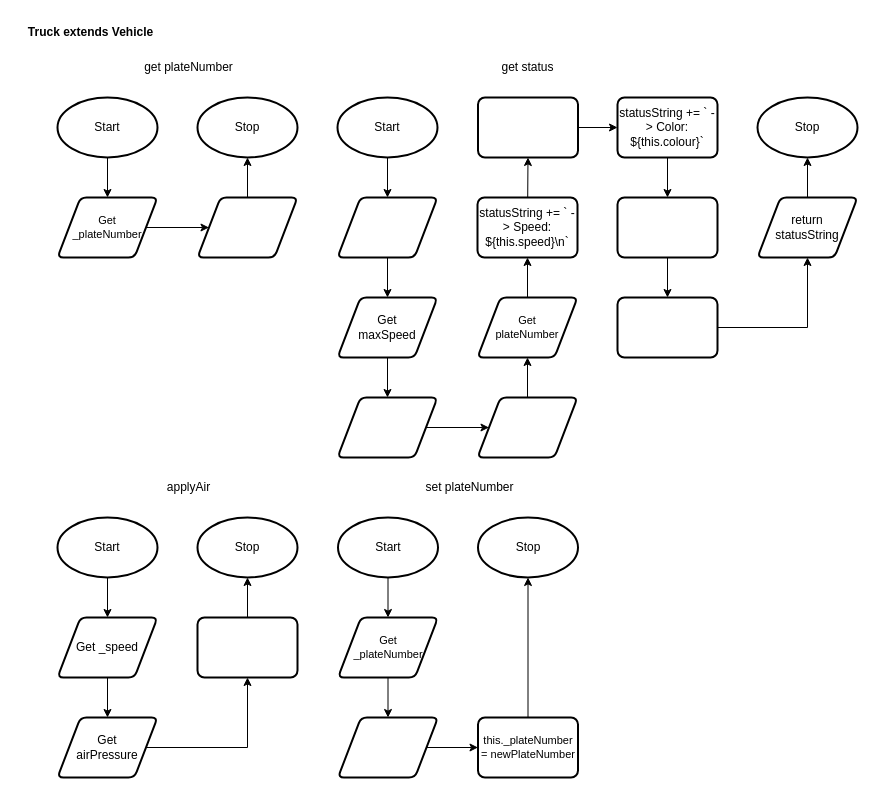
This 875x795 diagram has some shape labels left out. Here are the shapes that lost their labels. From the top down, the centre of each, then its label:
(x=527, y=127): statusString += ` -> MaxSpeed: ${this.maxSpeed}\n`
(x=247, y=227): return _plateNumber
(x=387, y=227): Get speed
(x=667, y=227): statusString += ` -> License Plate: ${this.plateNumber}`
(x=667, y=327): statusString += ` -> # of Wheels: ${this.wheels}\n`
(x=387, y=427): Get colour
(x=527, y=427): Get wheels
(x=247, y=647): this._speed = this.speed - airPressure / 2
(x=387, y=747): Get newPlateNumber
